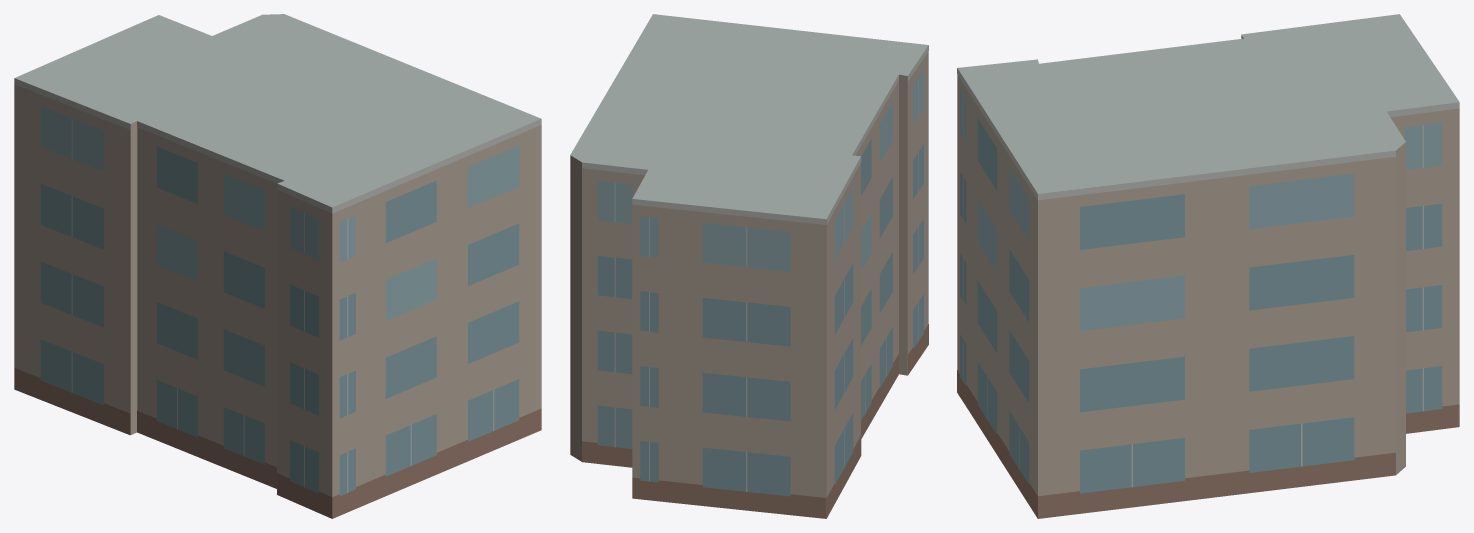
The model's file is survey-upis-32588318.glb.
3 renders of one model, left to right at view 1: azimuth 30°, elevation 25°; view 2: azimuth 150°, elevation 25°; view 3: azimuth 270°, elevation 25°, orthographic. The views are drawn at different scales.
Parts seen in each view (by area): view 1: survey-upis-32588318.tmp; view 2: survey-upis-32588318.tmp; view 3: survey-upis-32588318.tmp.
Boxes of the visible parts, bbox=[...] form: survey-upis-32588318.tmp: bbox=[14, 14, 541, 518]; survey-upis-32588318.tmp: bbox=[570, 14, 928, 518]; survey-upis-32588318.tmp: bbox=[957, 14, 1459, 518].
Bounding box in the file's own units: 14.99 × 12.6 × 17.67.
